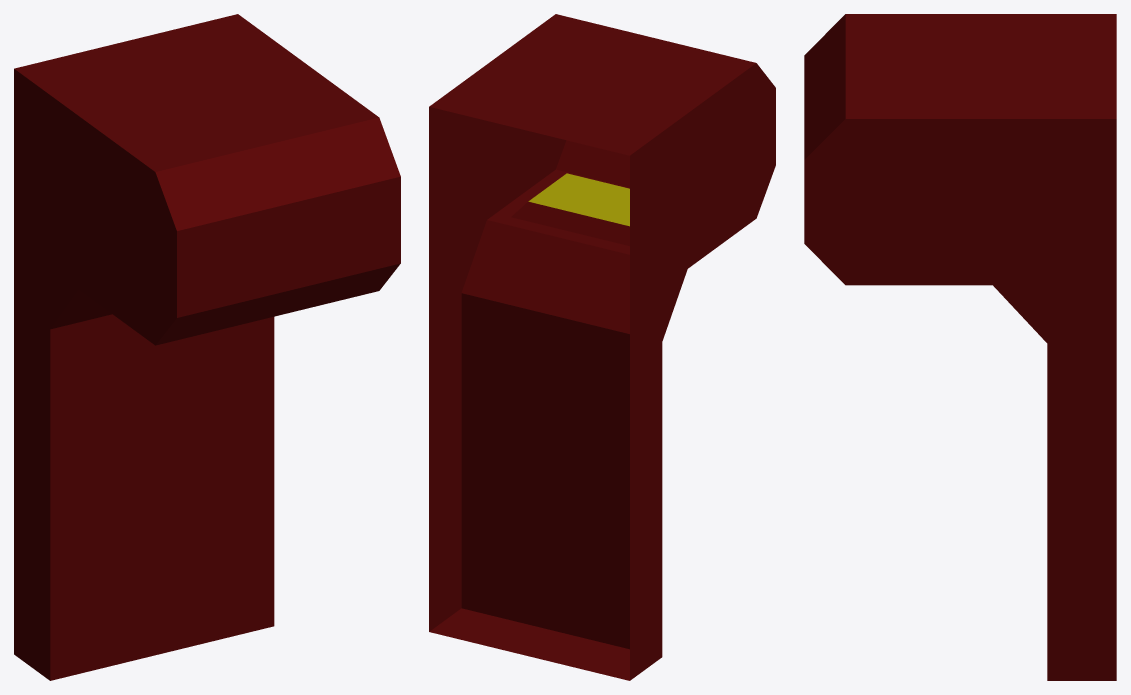
File: Small_Light.fbx
3 views of the same model, side by side, from view 1: azimuth 30°, elevation 25°; view 2: azimuth 150°, elevation 25°; view 3: azimuth 270°, elevation 25° (orthographic). The views are drawn at different scales.
Visible parts, largest first — view 1: Wall_Small_Light; view 2: Wall_Small_Light; view 3: Wall_Small_Light.
Part boxes in pixels (<box>): Wall_Small_Light: <box>14,14,400,680</box>; Wall_Small_Light: <box>429,14,775,680</box>; Wall_Small_Light: <box>804,14,1116,680</box>.
Bounding box in the file's own units: 20 × 25.2 × 50.
